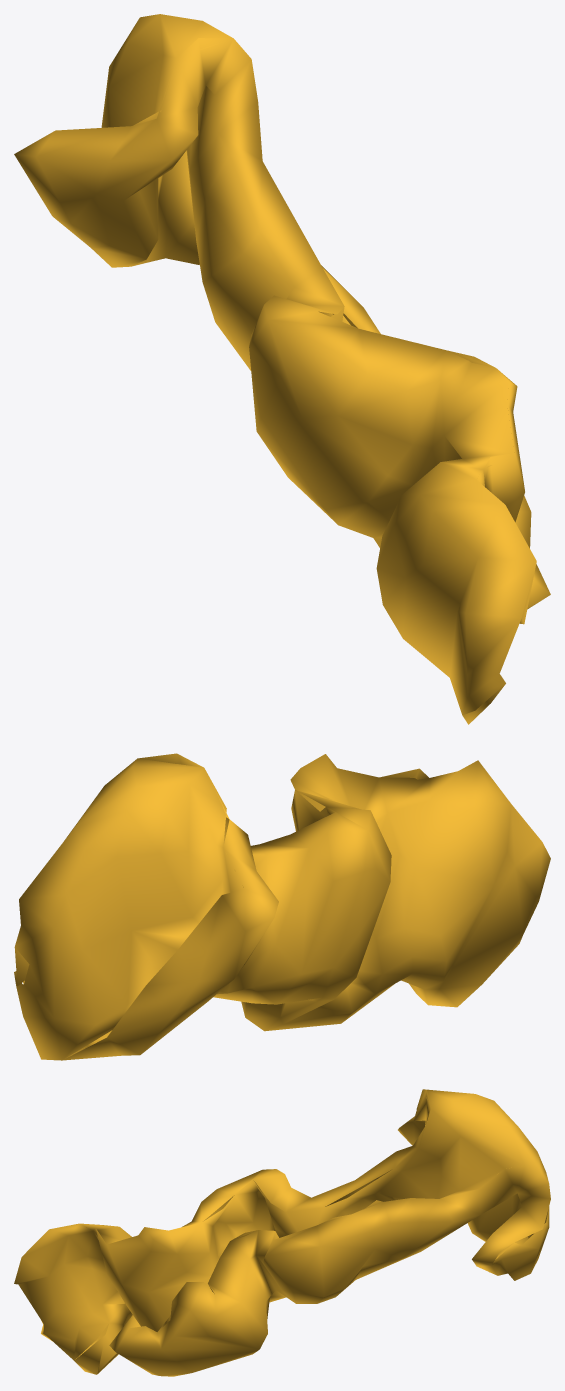
File: nervoso-superior-frontal-sulcus-l.glb
3 views of the same model, one above another, from view 1: azimuth 30°, elevation 25°; view 2: azimuth 150°, elevation 25°; view 3: azimuth 270°, elevation 25° (orthographic). The views are drawn at different scales.
Parts seen in each view (by area): view 1: Superior frontal sulcus.l; view 2: Superior frontal sulcus.l; view 3: Superior frontal sulcus.l.
Boxes of the visible parts, <box> form: Superior frontal sulcus.l: <box>14,14,550,724</box>; Superior frontal sulcus.l: <box>14,753,550,1060</box>; Superior frontal sulcus.l: <box>14,1089,550,1376</box>.
Size of the model in its own units: 0.0244 by 0.0396 by 0.0674.
